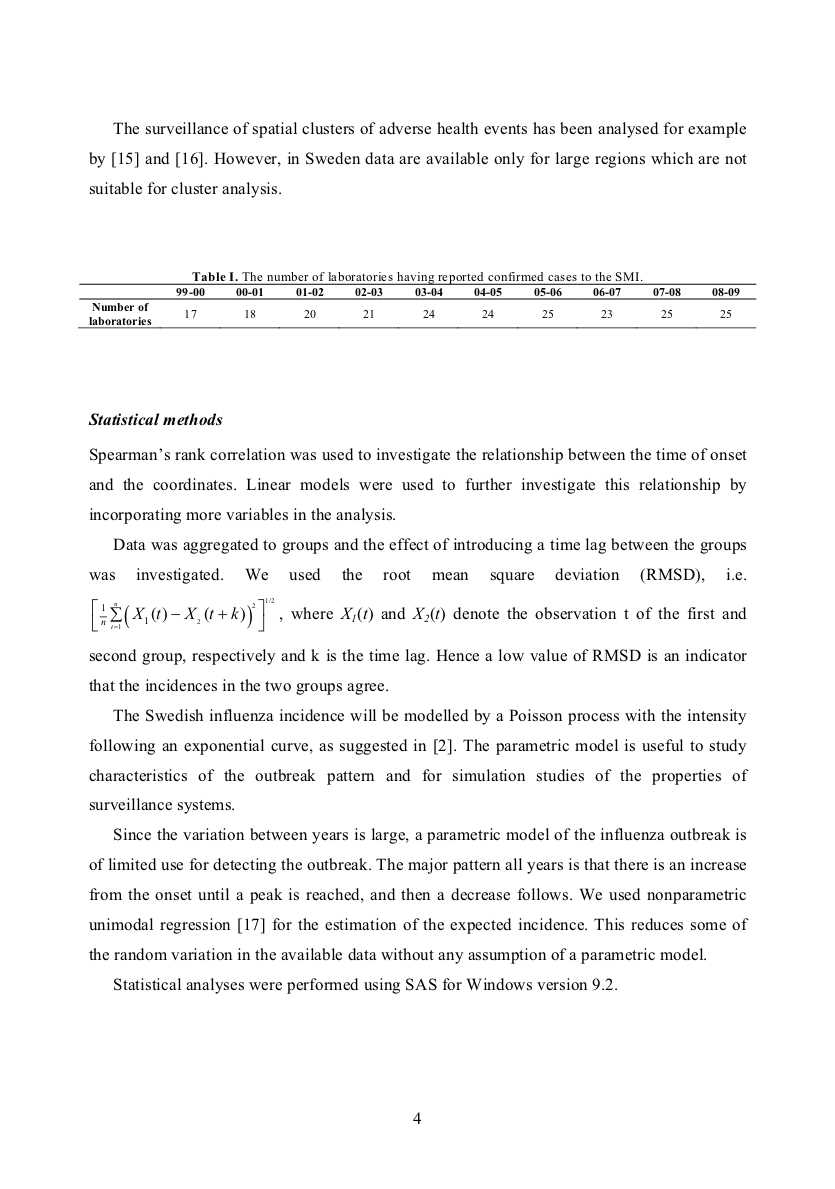Table: (78, 272, 756, 328)
